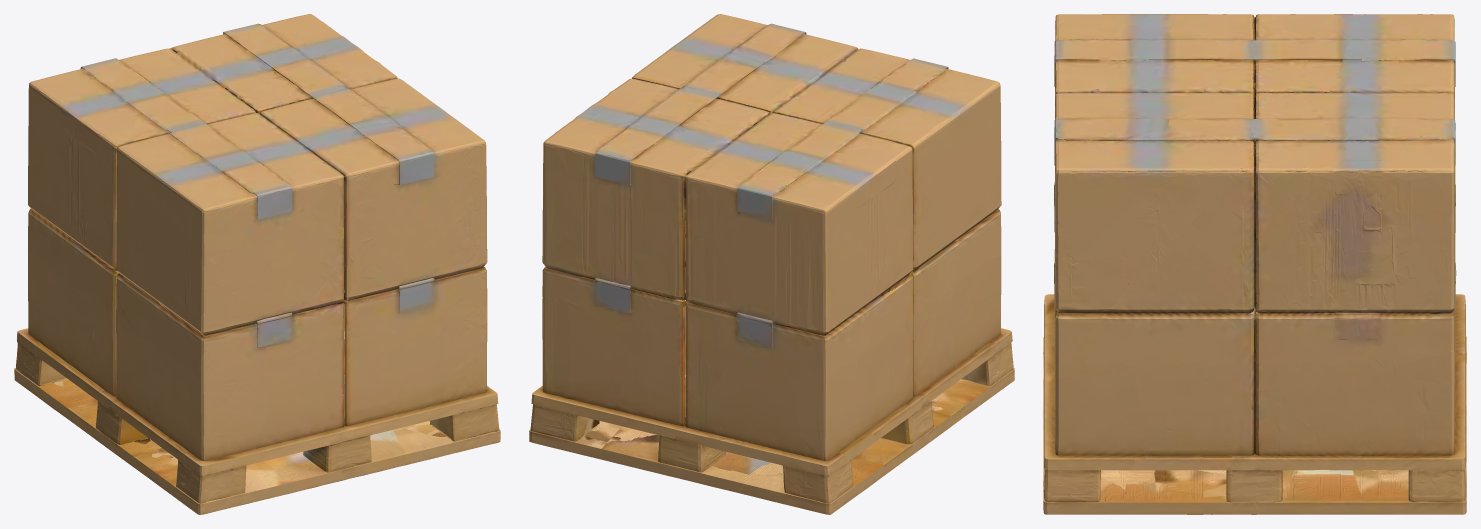
3 renders of one model, left to right at view 1: azimuth 30°, elevation 25°; view 2: azimuth 150°, elevation 25°; view 3: azimuth 270°, elevation 25°, orthographic. The views are drawn at different scales.
Visible parts, largest first — view 1: tripo_node_fc716097-6904-4b27-97d5-f6a69445c78b; view 2: tripo_node_fc716097-6904-4b27-97d5-f6a69445c78b; view 3: tripo_node_fc716097-6904-4b27-97d5-f6a69445c78b.
Part boxes in pixels (x1=…): tripo_node_fc716097-6904-4b27-97d5-f6a69445c78b: x1=14, y1=14, x2=500, y2=514; tripo_node_fc716097-6904-4b27-97d5-f6a69445c78b: x1=529, y1=14, x2=1014, y2=514; tripo_node_fc716097-6904-4b27-97d5-f6a69445c78b: x1=1043, y1=14, x2=1466, y2=514.
Size of the model in its own units: 0.9357 by 0.8953 by 0.9999.
Materials: 1 (1 with a texture image).
